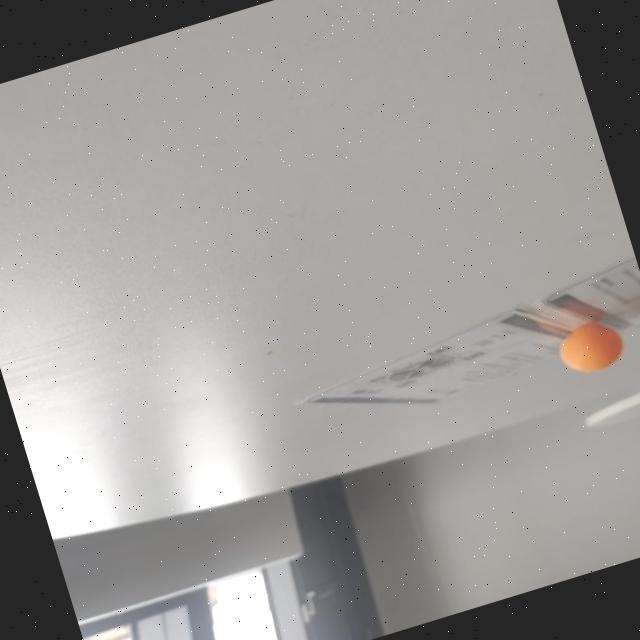ping-pong-ball: (552, 314, 630, 379)
